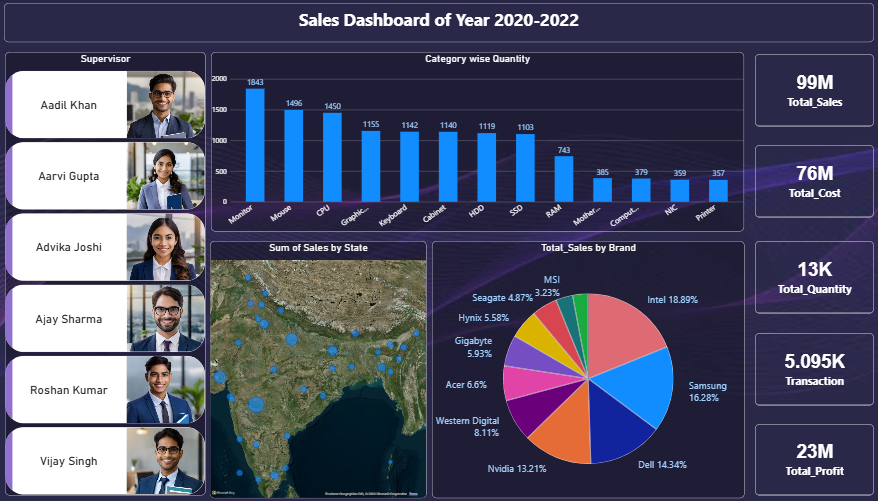

The page's visual inventory and layout, read from the dashboard file:
{"tool":"powerbi","page":{"name":"Page 1","canvas":[2560,1440],"ordinal":0},"visuals":[{"type":"textbox","box":[48.6,11.4,2465.7,111.4],"z":0},{"type":"cardVisual","fields":{"Data":["Sum(Sales_Data.Total_Sales)"]},"box":[2177.1,157.1,337.1,205.7],"z":1000},{"type":"cardVisual","fields":{"Data":["Sum(Sales_Data.Total_Cost)"]},"box":[2177.1,414.3,337.1,205.7],"z":2000},{"type":"cardVisual","fields":{"Data":["Sum(Sales_Data.Quantity)"]},"box":[2177.1,685.7,337.1,205.7],"z":3000},{"type":"cardVisual","fields":{"Data":["CountNonNull(Sales_Data.Order_Number)"]},"box":[2177.1,945.7,337.1,205.7],"z":4000},{"type":"cardVisual","fields":{"Data":["Sales_Data.Total_Profit"]},"box":[2177.1,1205.7,337.1,202.9],"z":5000},{"type":"clusteredColumnChart","title":"Category wise Quantity","fields":{"Category":["Sales_Data.Category"],"Y":["Sum(Sales_Data.Quantity)"]},"box":[634.3,151.4,1511.4,508.6],"z":6000},{"type":"pieChart","fields":{"Category":["Sales_Data.Brand"],"Y":["Sum(Sales_Data.Total_Sales)"]},"box":[1260,685.7,885.7,728.6],"z":6001},{"type":"map","fields":{"Category":["State_list.State"],"Size":["Sum(Sales_Data.Sales)"]},"box":[631.4,685.7,614.3,728.6],"z":6002},{"type":"advancedSlicerVisual","fields":{"Values":["Supervisor.Supervisor"]},"box":[51.4,151.4,568.6,1257.1],"z":6003}]}

Visuals, with their boxes in screenshot pixels (x1, y1, x2, y2), scaled from the page's 2560x1440 canvas onto the 878x501 screenshot:
textbox: {"x1": 17, "y1": 4, "x2": 862, "y2": 43}
cardVisual - Sum(Sales_Data.Total_Sales): {"x1": 747, "y1": 55, "x2": 862, "y2": 126}
cardVisual - Sum(Sales_Data.Total_Cost): {"x1": 747, "y1": 144, "x2": 862, "y2": 216}
cardVisual - Sum(Sales_Data.Quantity): {"x1": 747, "y1": 239, "x2": 862, "y2": 310}
cardVisual - CountNonNull(Sales_Data.Order_Number): {"x1": 747, "y1": 329, "x2": 862, "y2": 401}
cardVisual - Sales_Data.Total_Profit: {"x1": 747, "y1": 419, "x2": 862, "y2": 490}
"Category wise Quantity" clusteredColumnChart: {"x1": 218, "y1": 53, "x2": 736, "y2": 230}
pieChart - Sales_Data.Brand x Sum(Sales_Data.Total_Sales): {"x1": 432, "y1": 239, "x2": 736, "y2": 492}
map - State_list.State x Sum(Sales_Data.Sales): {"x1": 217, "y1": 239, "x2": 427, "y2": 492}
advancedSlicerVisual - Supervisor.Supervisor: {"x1": 18, "y1": 53, "x2": 213, "y2": 490}
